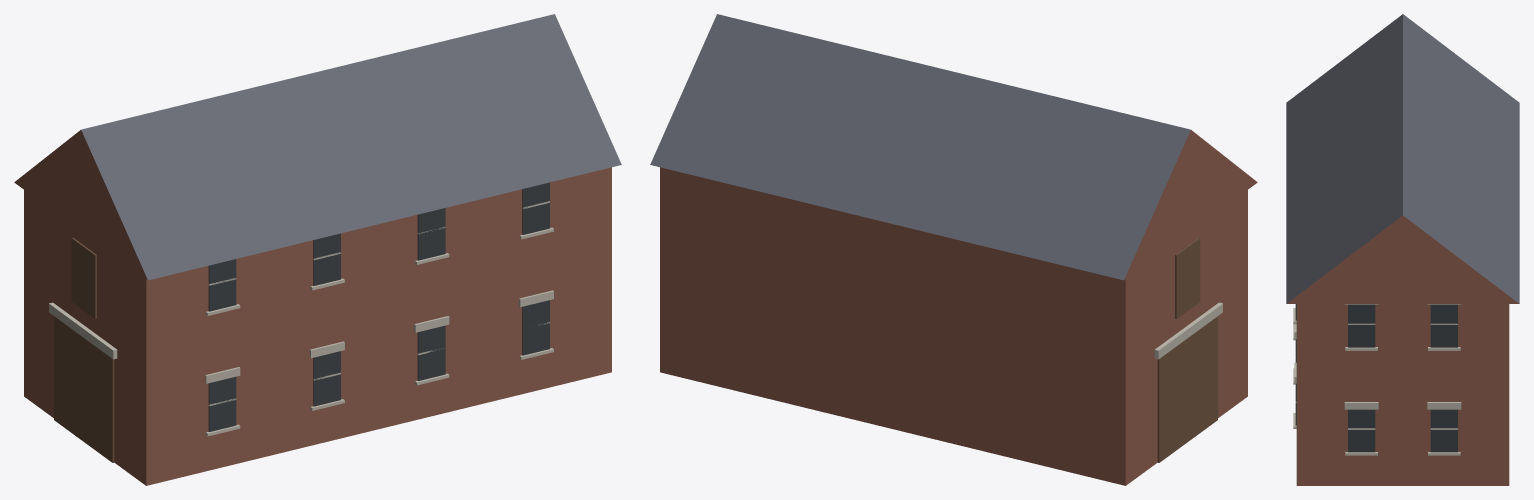
Rendered from tolman_house_2031_prairie_coach_house__draft_1904.glb.
3 views of the same model, side by side, from view 1: azimuth 30°, elevation 25°; view 2: azimuth 150°, elevation 25°; view 3: azimuth 270°, elevation 25° (orthographic). The views are drawn at different scales.
Parts seen in each view (by area): view 1: tolman_house_2031_prairie_coach_house__draft_1904; view 2: tolman_house_2031_prairie_coach_house__draft_1904; view 3: tolman_house_2031_prairie_coach_house__draft_1904.
Boxes of the visible parts, box(x1,y1,x2,y2) form: tolman_house_2031_prairie_coach_house__draft_1904: box(14, 14, 621, 485); tolman_house_2031_prairie_coach_house__draft_1904: box(650, 14, 1257, 485); tolman_house_2031_prairie_coach_house__draft_1904: box(1286, 14, 1519, 485).
Bounding box in the file's own units: 13.99 × 8.82 × 6.85.
